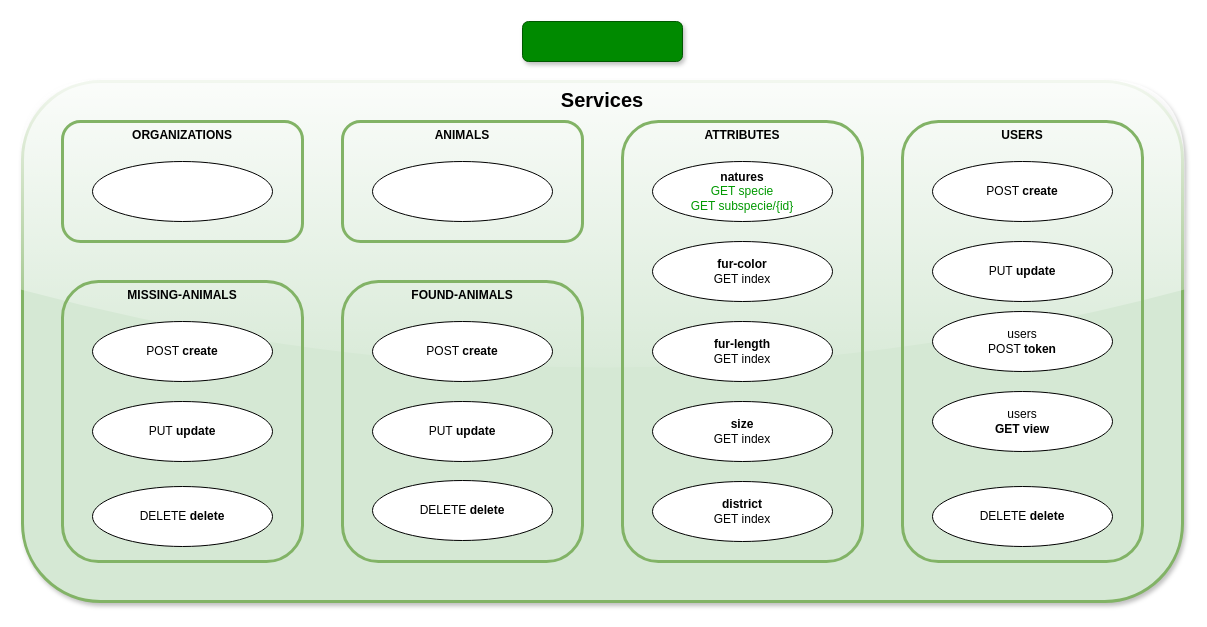
Some shapes in this 1207 by 627 pixel diagram are drawn without their labels. The centre of each missing label's shape, as x and y in pixels:
animals GET index GET view: the point at 462,191
API: the point at 603,42
natures GET index GET view: the point at 182,191
